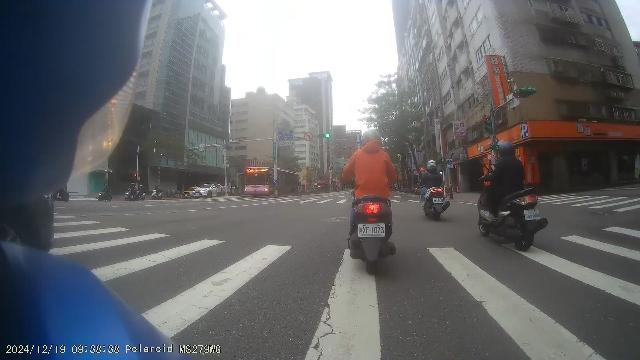plate: (358, 223, 385, 237)
